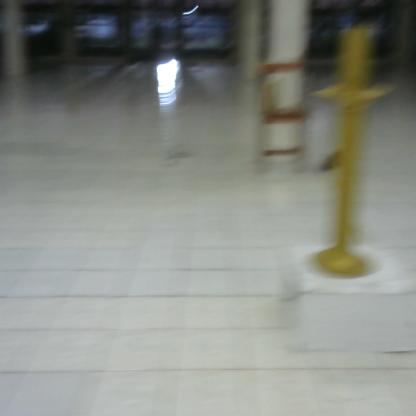pole: (308, 19, 393, 289)
